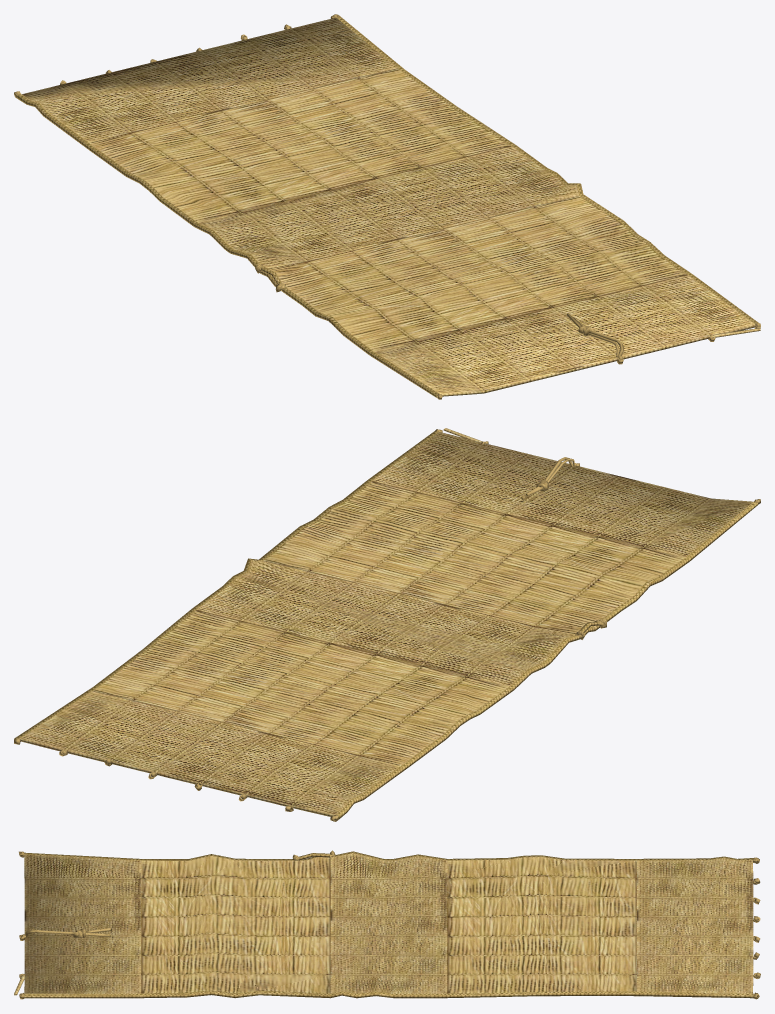
File: fan.glb
3 views of the same model, one above another, from view 1: azimuth 30°, elevation 25°; view 2: azimuth 150°, elevation 25°; view 3: azimuth 270°, elevation 25° (orthographic). The views are drawn at different scales.
Parts seen in each view (by area): view 1: carpet_1_LOD2_M_carpet_0.006, carpet_1_LOD2_M_carpet_0, carpet_1_LOD2_M_carpet_0.004, carpet_1_LOD2_M_carpet_0.003, carpet_1_LOD2_M_carpet_0.016, carpet_1_LOD2_M_carpet_0.009, carpet_1_LOD2_M_carpet_0.055, carpet_1_LOD2_M_carpet_0.017; view 2: carpet_1_LOD2_M_carpet_0.006, carpet_1_LOD2_M_carpet_0, carpet_1_LOD2_M_carpet_0.004, carpet_1_LOD2_M_carpet_0.003, carpet_1_LOD2_M_carpet_0.016, carpet_1_LOD2_M_carpet_0.009, carpet_1_LOD2_M_carpet_0.055, carpet_1_LOD2_M_carpet_0.015; view 3: carpet_1_LOD2_M_carpet_0.006, carpet_1_LOD2_M_carpet_0, carpet_1_LOD2_M_carpet_0.004, carpet_1_LOD2_M_carpet_0.016, carpet_1_LOD2_M_carpet_0.003, carpet_1_LOD2_M_carpet_0.055, carpet_1_LOD2_M_carpet_0.009.
Part boxes in pixels (<box>): carpet_1_LOD2_M_carpet_0.006: <box>268,196,687,351</box>; carpet_1_LOD2_M_carpet_0: <box>90,68,511,222</box>; carpet_1_LOD2_M_carpet_0.004: <box>198,146,578,268</box>; carpet_1_LOD2_M_carpet_0.003: <box>22,17,397,142</box>; carpet_1_LOD2_M_carpet_0.016: <box>375,275,754,394</box>; carpet_1_LOD2_M_carpet_0.009: <box>17,94,439,397</box>; carpet_1_LOD2_M_carpet_0.055: <box>336,16,758,323</box>; carpet_1_LOD2_M_carpet_0.017: <box>442,324,755,396</box>; carpet_1_LOD2_M_carpet_0.006: <box>263,481,685,633</box>; carpet_1_LOD2_M_carpet_0: <box>92,610,509,765</box>; carpet_1_LOD2_M_carpet_0.004: <box>196,560,574,685</box>; carpet_1_LOD2_M_carpet_0.003: <box>21,691,399,814</box>; carpet_1_LOD2_M_carpet_0.016: <box>372,432,753,557</box>; carpet_1_LOD2_M_carpet_0.009: <box>335,502,757,819</box>; carpet_1_LOD2_M_carpet_0.055: <box>16,431,438,738</box>; carpet_1_LOD2_M_carpet_0.015: <box>20,738,333,816</box>; carpet_1_LOD2_M_carpet_0.006: <box>141,856,330,993</box>; carpet_1_LOD2_M_carpet_0: <box>447,857,636,993</box>; carpet_1_LOD2_M_carpet_0.004: <box>330,853,447,993</box>; carpet_1_LOD2_M_carpet_0.016: <box>24,854,141,993</box>; carpet_1_LOD2_M_carpet_0.003: <box>637,858,753,993</box>; carpet_1_LOD2_M_carpet_0.055: <box>24,990,752,998</box>; carpet_1_LOD2_M_carpet_0.009: <box>24,851,752,860</box>.
Bounding box in the file's own units: 0.9179 × 0.0437 × 2.06.
1 material, 1 textured.
